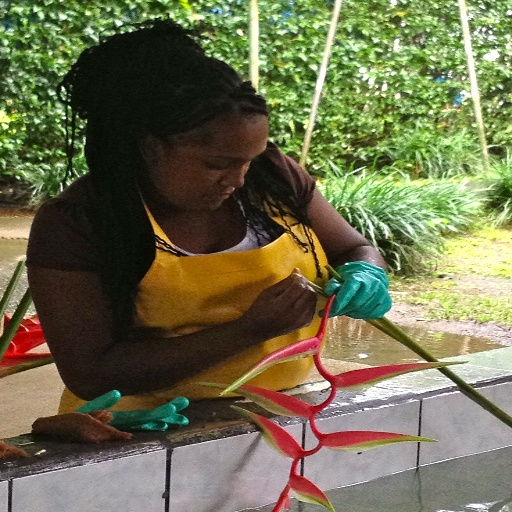hand: (238, 266, 321, 337), (334, 254, 386, 320)
